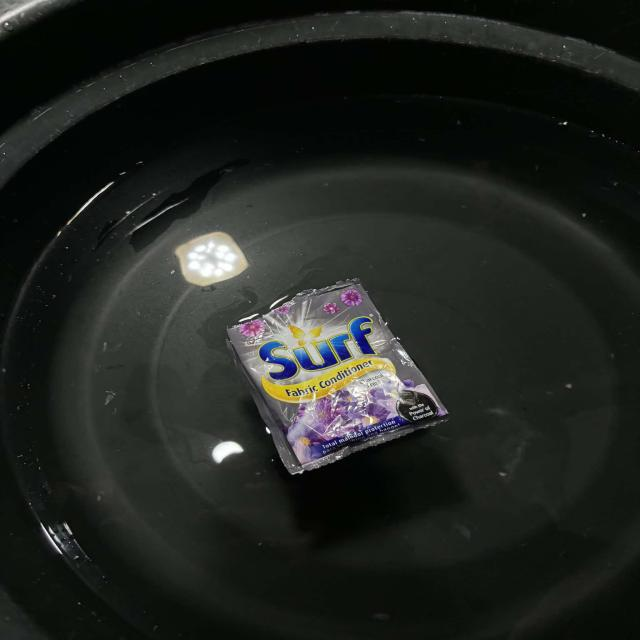Plastic Wrapper: (209, 269, 465, 487)
